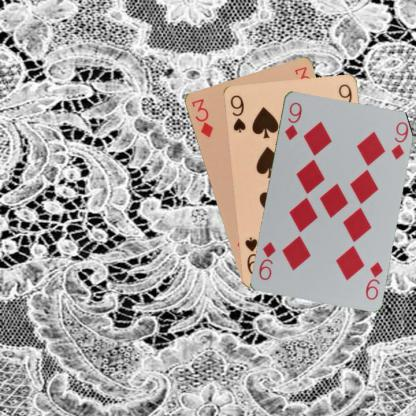3d: (188, 96, 214, 139)
9d: (362, 258, 384, 301), (281, 99, 303, 141)
9s: (227, 92, 247, 134)
